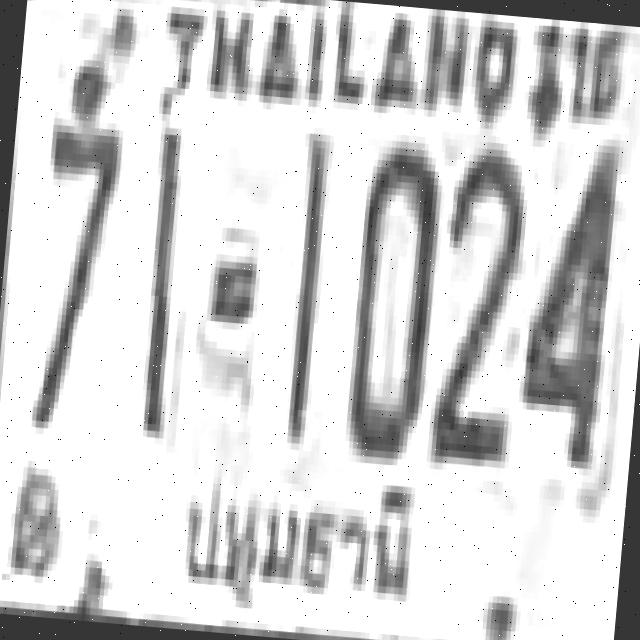0: (340, 138, 441, 453)
1: (132, 123, 188, 434), (278, 130, 330, 440)
2: (426, 142, 528, 464), (428, 138, 528, 440)
4: (514, 133, 620, 462)
7: (24, 117, 120, 425)
PathumThani: (165, 450, 425, 634)
